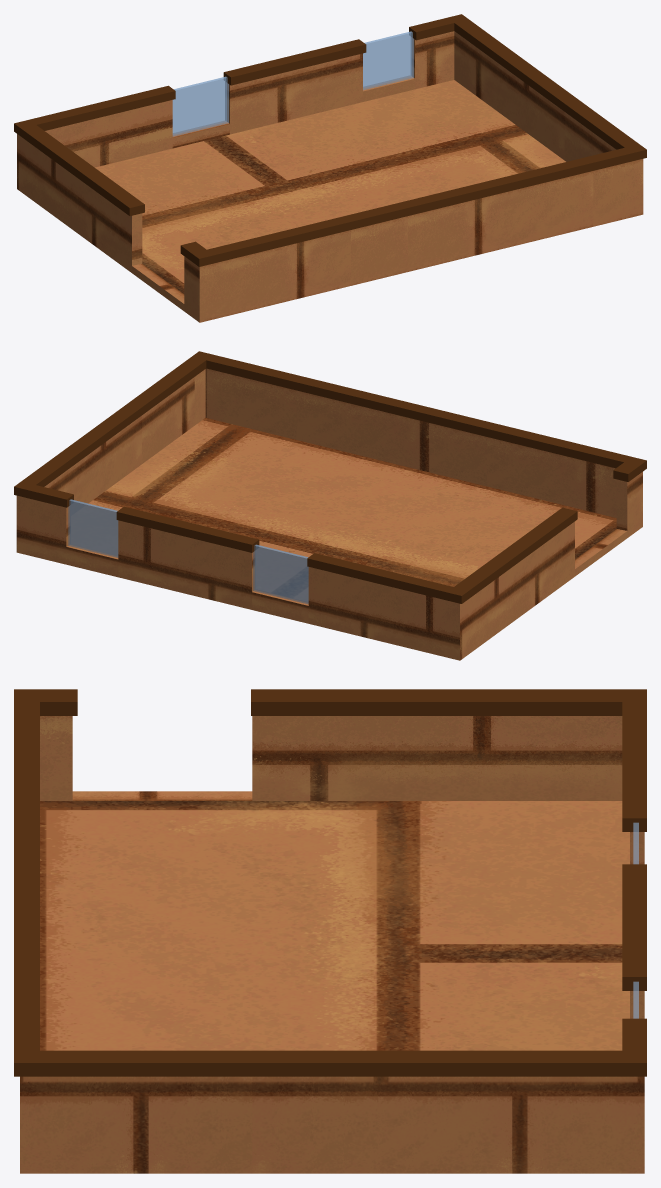
Rendered from KeukenV2 2.fbx.
3 renders of one model, top to bottom at view 1: azimuth 30°, elevation 25°; view 2: azimuth 150°, elevation 25°; view 3: azimuth 270°, elevation 25°, orthographic. The views are drawn at different scales.
Visible parts, largest first — view 1: Cube, Cube.001, Cube.002, Cube.003; view 2: Cube, Cube.001, Cube.002, Cube.003; view 3: Cube, Cube.001.
Part boxes in pixels (left/top/right/bottom): Cube: left=17, top=31, right=643, bottom=322; Cube.001: left=14, top=14, right=646, bottom=266; Cube.002: left=172, top=76, right=228, bottom=136; Cube.003: left=363, top=31, right=413, bottom=90; Cube: left=16, top=368, right=642, bottom=660; Cube.001: left=14, top=351, right=646, bottom=603; Cube.002: left=253, top=544, right=308, bottom=603; Cube.003: left=68, top=499, right=118, bottom=557; Cube: left=20, top=716, right=644, bottom=1173; Cube.001: left=14, top=689, right=646, bottom=1076.
Bounding box in the file's own units: 2513 × 353 × 1800.
